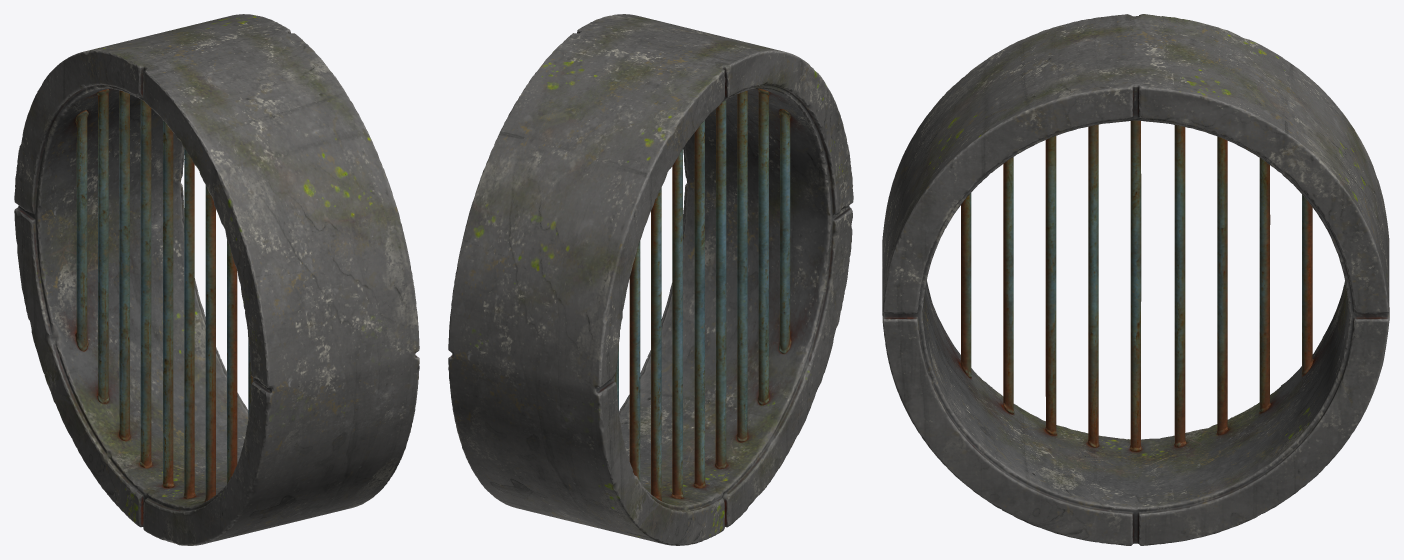
File: SM_Sewer_Bars_01a.fbx
The picture shows the model from 3 angles, left to right: view 1: azimuth 30°, elevation 25°; view 2: azimuth 150°, elevation 25°; view 3: azimuth 270°, elevation 25°; orthographic projection.
Parts seen in each view (by area): view 1: SM_Sewer_Bars_01a_LOD0; view 2: SM_Sewer_Bars_01a_LOD0; view 3: SM_Sewer_Bars_01a_LOD0.
Part boxes in pixels (x1,y1,x2,y2): SM_Sewer_Bars_01a_LOD0: [14, 14, 419, 545]; SM_Sewer_Bars_01a_LOD0: [448, 14, 853, 545]; SM_Sewer_Bars_01a_LOD0: [882, 14, 1389, 545].
Bounding box in the file's own units: 66.97 × 192 × 192.
